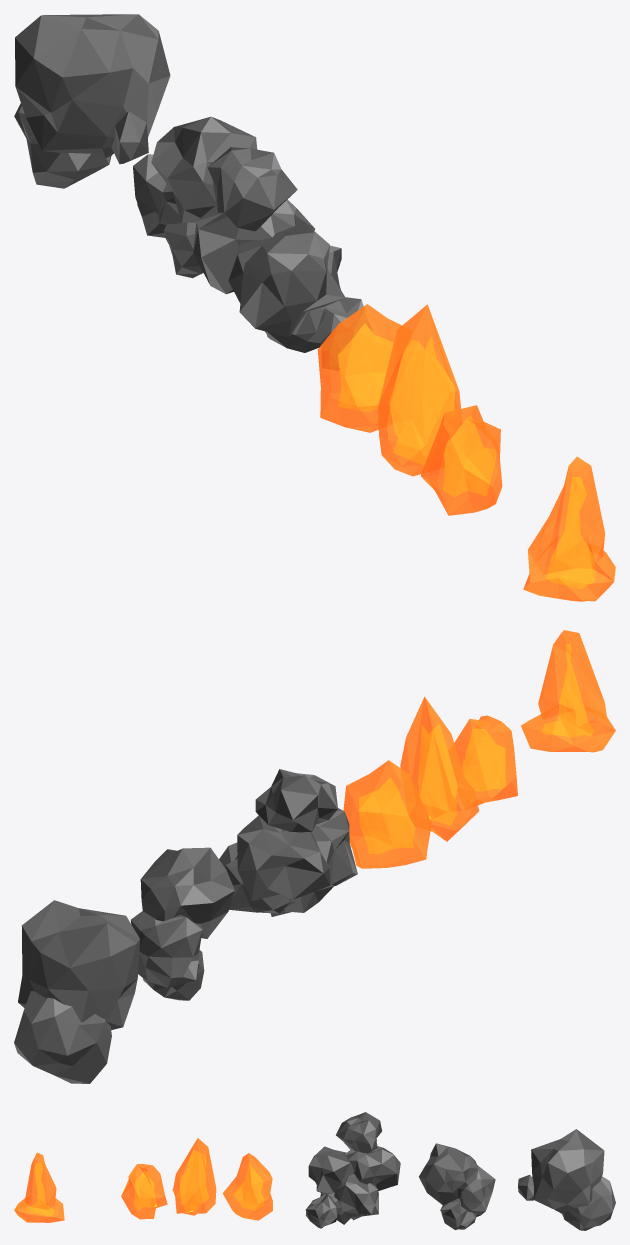
The model's file is Smokes_and_Flames.fbx.
The picture shows the model from 3 angles, top to bottom: view 1: azimuth 30°, elevation 25°; view 2: azimuth 150°, elevation 25°; view 3: azimuth 270°, elevation 25°; orthographic projection. The views are drawn at different scales.
Parts seen in each view (by area): view 1: smoke3, smoke1, smoke2, flame3, flame1, flame4, flame2; view 2: smoke3, smoke1, smoke2, flame4, flame1, flame3, flame2; view 3: smoke1, smoke3, smoke2, flame3, flame4, flame1, flame2.
Boxes of the visible parts, <box> form: smoke3: <box>14,14,170,188</box>; smoke1: <box>193,147,363,352</box>; smoke2: <box>133,116,257,278</box>; flame3: <box>378,304,460,476</box>; flame1: <box>523,456,615,601</box>; flame4: <box>317,304,401,432</box>; flame2: <box>421,405,502,515</box>; smoke3: <box>14,900,139,1083</box>; smoke1: <box>219,769,357,916</box>; smoke2: <box>130,847,234,1000</box>; flame4: <box>343,760,431,868</box>; flame1: <box>521,630,615,752</box>; flame3: <box>400,696,479,841</box>; flame2: <box>454,715,517,805</box>; smoke1: <box>305,1112,400,1228</box>; smoke3: <box>518,1129,615,1230</box>; smoke2: <box>419,1143,495,1229</box>; flame3: <box>172,1138,216,1215</box>; flame4: <box>222,1153,272,1220</box>; flame1: <box>14,1152,64,1222</box>; flame2: <box>121,1164,167,1219</box>.
Bounding box in the file's own units: 127 × 160 × 824.
